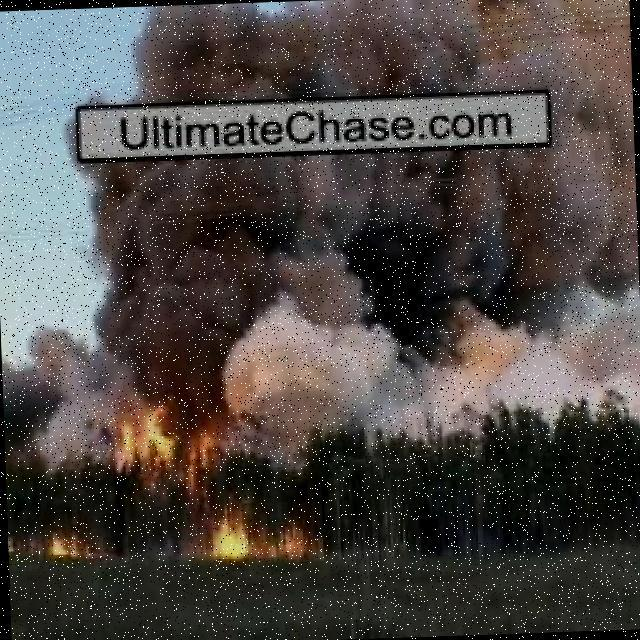Fire: (109, 393, 207, 471), (38, 523, 95, 560), (212, 511, 251, 560), (277, 526, 306, 561)
